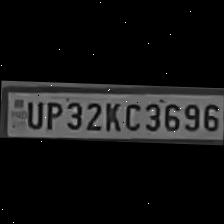2: (82, 97, 102, 130)
3: (62, 96, 82, 129), (142, 98, 160, 131)
6: (160, 97, 180, 130), (200, 99, 220, 130)
9: (180, 98, 200, 131)
C: (121, 98, 141, 130)
K: (100, 97, 119, 131)
P: (42, 96, 62, 130)
U: (22, 95, 42, 127)
